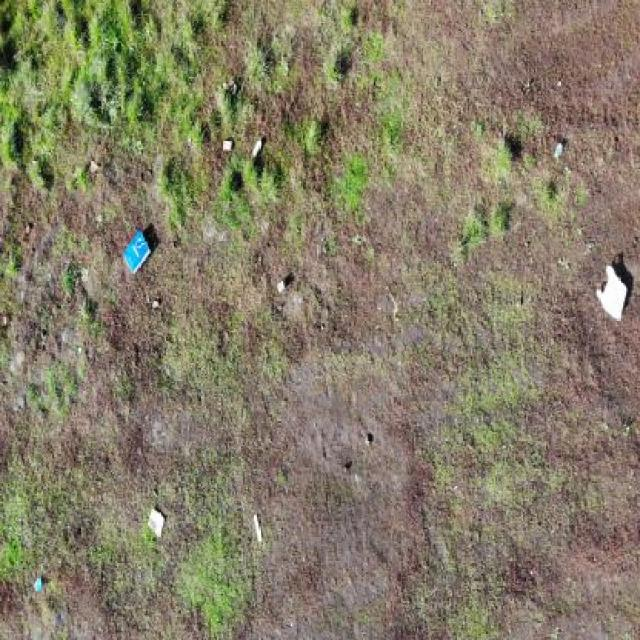Garbage: (595, 264, 628, 322), (122, 226, 152, 276), (146, 506, 166, 537), (253, 514, 263, 543), (251, 136, 264, 158), (553, 143, 564, 160), (33, 576, 44, 593), (276, 276, 287, 292), (222, 138, 233, 153)
